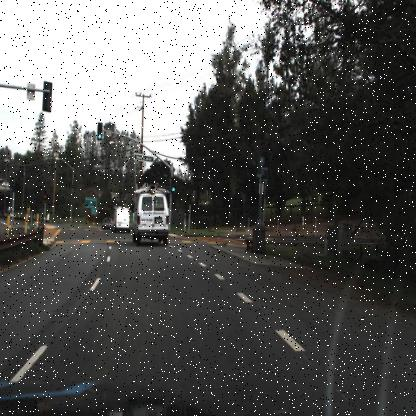car: (130, 189, 174, 243), (111, 205, 130, 237)
trafficLight: (262, 162, 274, 178)
trafficLight-Green: (94, 119, 106, 142), (170, 173, 178, 202), (169, 183, 176, 193)
